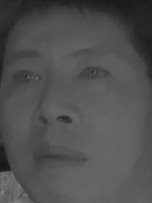eye: (77, 62, 112, 88), (12, 67, 44, 87)
mouth: (32, 141, 87, 176)
